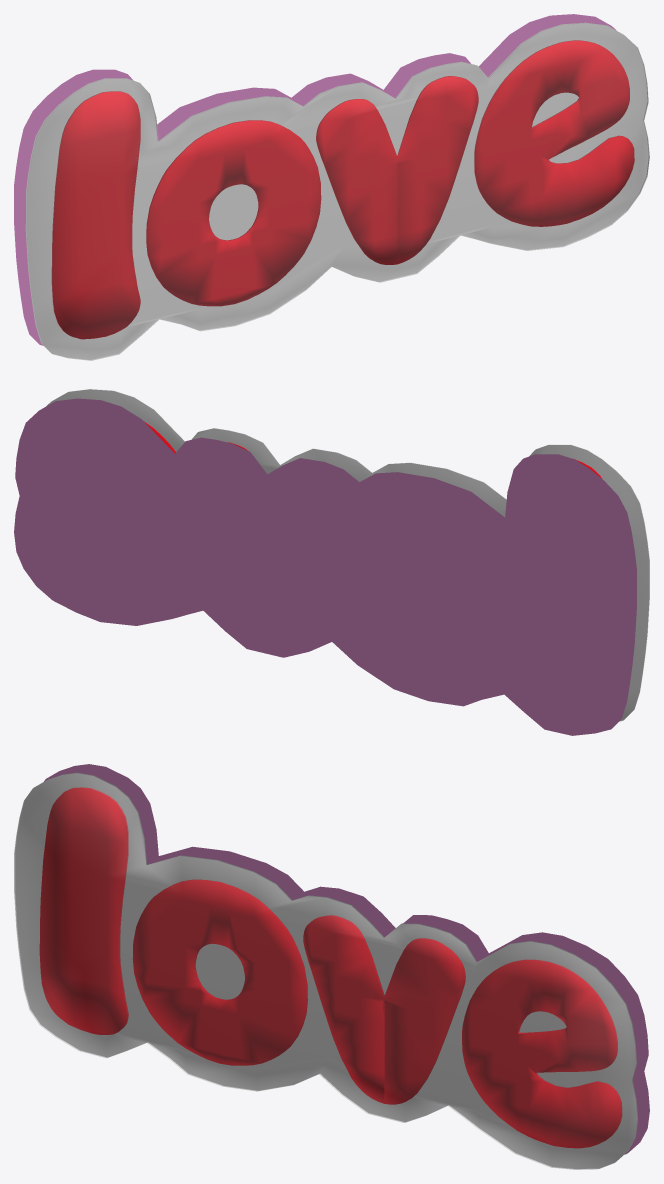
Rendered from love.glb.
The picture shows the model from 3 angles, top to bottom: view 1: azimuth 30°, elevation 25°; view 2: azimuth 150°, elevation 25°; view 3: azimuth 330°, elevation 25°; orthographic projection.
Visible parts, largest first — view 1: Plane.009, Plane.004, Plane.001, Plane.003, Plane.002, Plane, Plane.010; view 2: Plane.010, Plane.004, Plane.009; view 3: Plane.009, Plane.004, Plane.001, Plane.003, Plane.002, Plane, Plane.010.
Boxes of the visible parts, x1,y1,x2,y2 form: Plane.009: [27, 23, 649, 360]; Plane.004: [25, 22, 649, 360]; Plane.001: [146, 120, 321, 306]; Plane.003: [474, 40, 634, 226]; Plane.002: [316, 76, 478, 264]; Plane: [51, 91, 140, 339]; Plane.010: [14, 14, 616, 345]; Plane.010: [14, 398, 636, 735]; Plane.004: [46, 389, 649, 721]; Plane.009: [48, 389, 649, 720]; Plane.009: [14, 773, 636, 1169]; Plane.004: [14, 772, 637, 1169]; Plane.001: [132, 879, 307, 1065]; Plane.003: [462, 959, 622, 1148]; Plane.002: [303, 915, 465, 1104]; Plane: [39, 787, 128, 1034]; Plane.010: [44, 764, 649, 1154].
Bounding box in the file's own units: 2.13 × 0.9155 × 0.0861.
